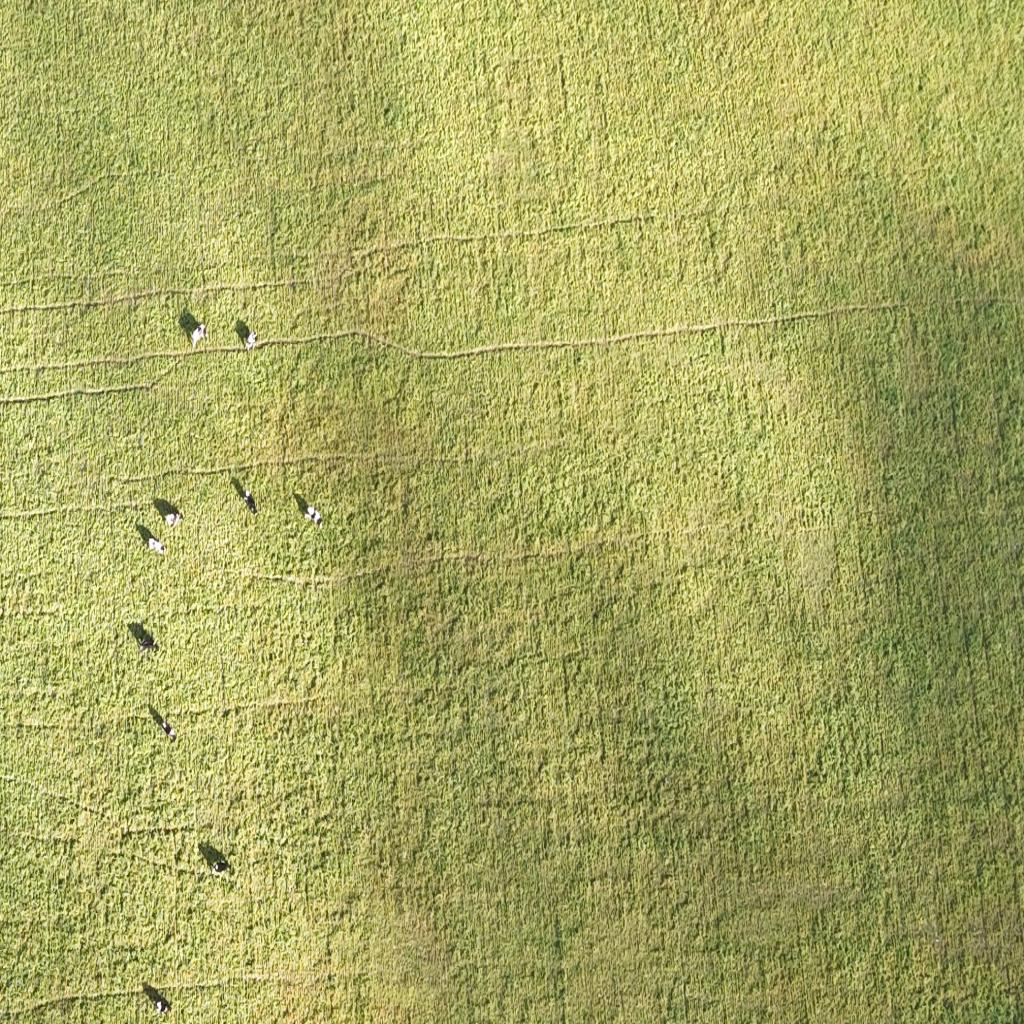cow: (155, 994, 173, 1016), (164, 510, 184, 528), (305, 504, 322, 524), (243, 489, 256, 515), (192, 325, 206, 347), (152, 537, 168, 555), (162, 722, 176, 742), (246, 330, 258, 350), (140, 641, 159, 653), (212, 860, 222, 874), (162, 721, 170, 734)
